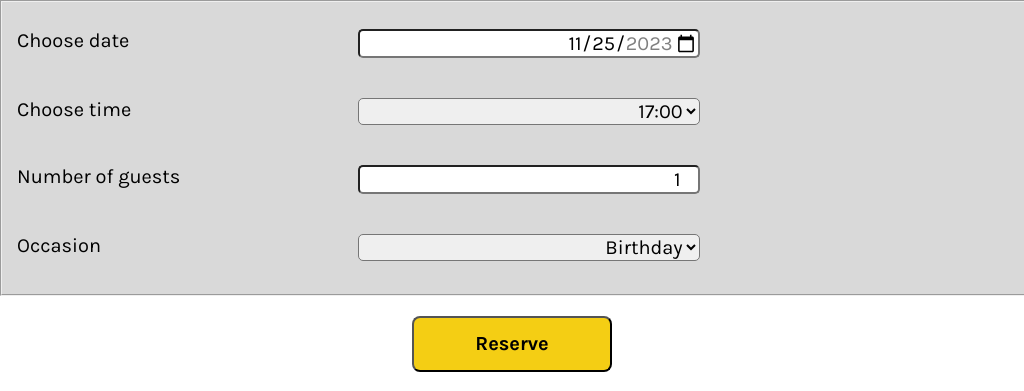
Checks date validation - date in the past
Type "2020-11-25" into the date field labelled "Choose date" at (529, 44), box [358, 29, 700, 58]
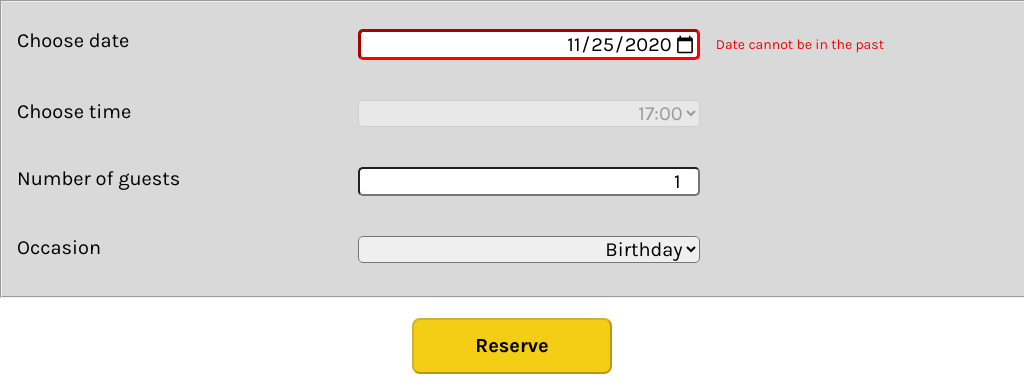
Check: the text with test id "error-date" reads "Date cannot be in the past", box [716, 36, 884, 53]
